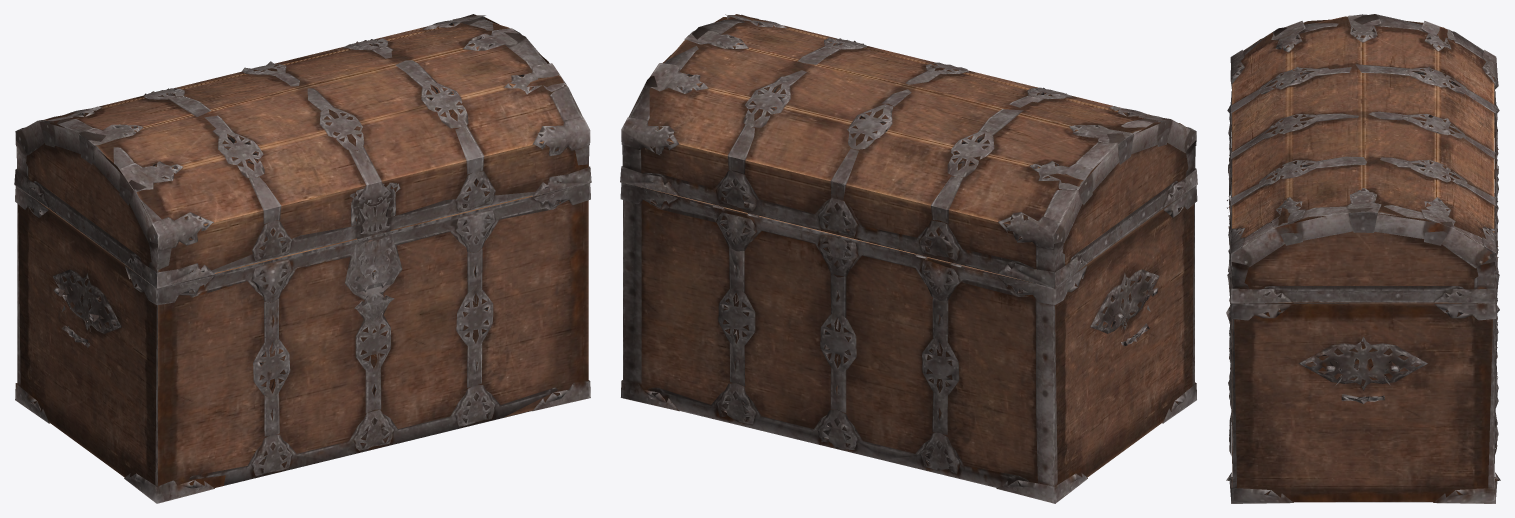
File: treasure_chest.glb
3 renders of one model, left to right at view 1: azimuth 30°, elevation 25°; view 2: azimuth 150°, elevation 25°; view 3: azimuth 270°, elevation 25°, orthographic. The views are drawn at different scales.
Visible parts, largest first — view 1: treasure_chest_bottom; view 2: treasure_chest_bottom; view 3: treasure_chest_bottom.
Boxes of the visible parts, x1,y1,x2,y2 form: treasure_chest_bottom: (14, 14, 591, 503); treasure_chest_bottom: (620, 14, 1197, 503); treasure_chest_bottom: (1226, 14, 1500, 503).
Size of the model in its own units: 0.9485 by 0.6241 by 0.5261.
1 material, 1 textured.
